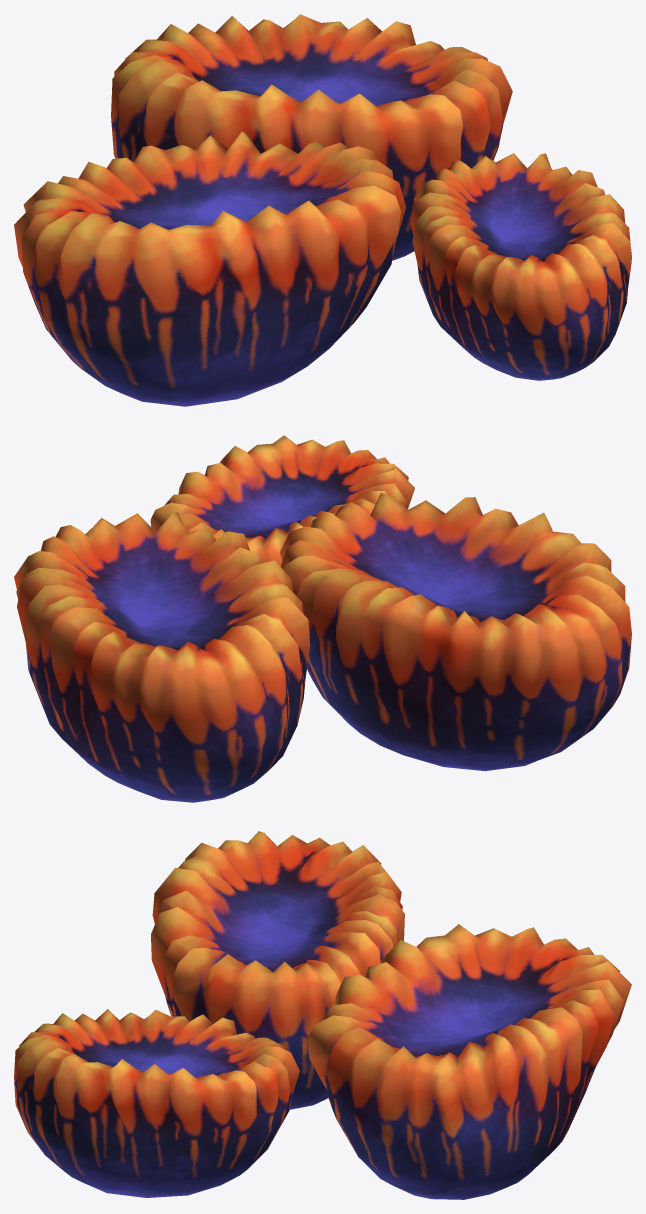
Rendered from coral13_FBX_still.fbx.
The picture shows the model from 3 angles, top to bottom: view 1: azimuth 30°, elevation 25°; view 2: azimuth 150°, elevation 25°; view 3: azimuth 270°, elevation 25°; orthographic projection. The views are drawn at different scales.
Parts seen in each view (by area): view 1: coral13_gameasset; view 2: coral13_gameasset; view 3: coral13_gameasset.
Boxes of the visible parts, bbox=[...] form: coral13_gameasset: bbox=[14, 14, 631, 406]; coral13_gameasset: bbox=[14, 435, 631, 802]; coral13_gameasset: bbox=[14, 831, 631, 1199].
Size of the model in its own units: 1.43 by 0.5697 by 1.52.
1 material, 1 textured.
